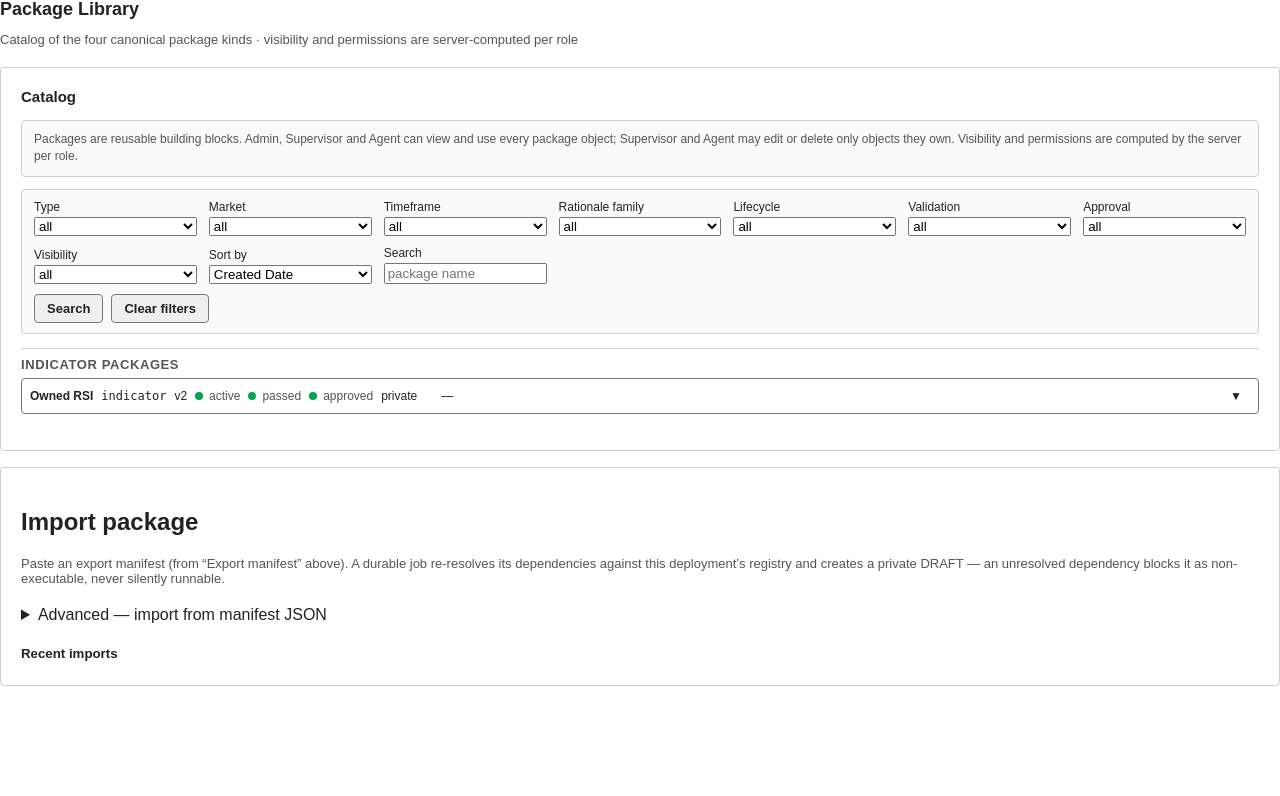
Package Library revision actions (R2a) › shows Derive + Create Revision when the server marks the flags true
The image size is (1280, 796).
Expected: the text "Owned RSI" is shown, [30,389,93,403]
Click the button named "Detail". click: (1236, 396)
box: [1222,382,1250,410]
(page scrolled)
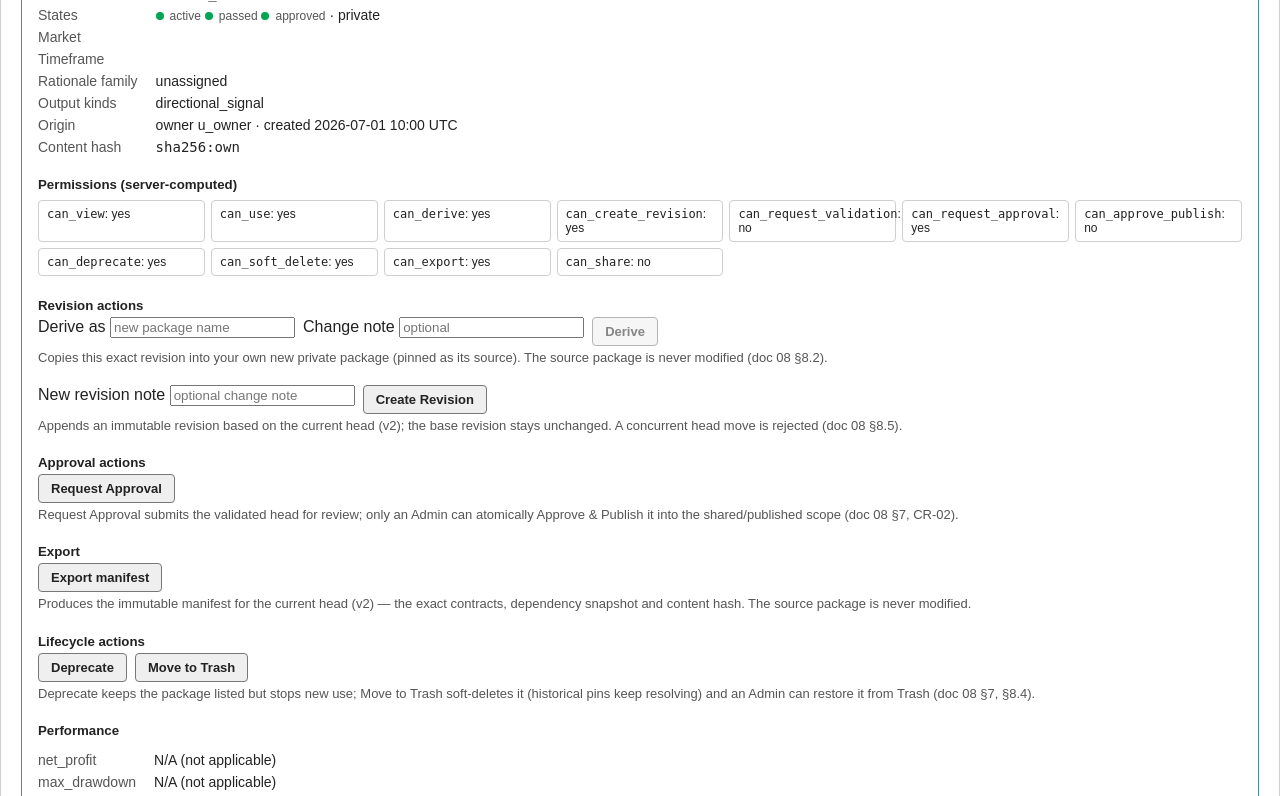
Now the heading "Revision actions" is shown, box [38,298,143,313]
Now the button "Derive" is shown, box [592,317,658,346]
Now the button "Create Revision" is shown, box [363,385,487,414]
